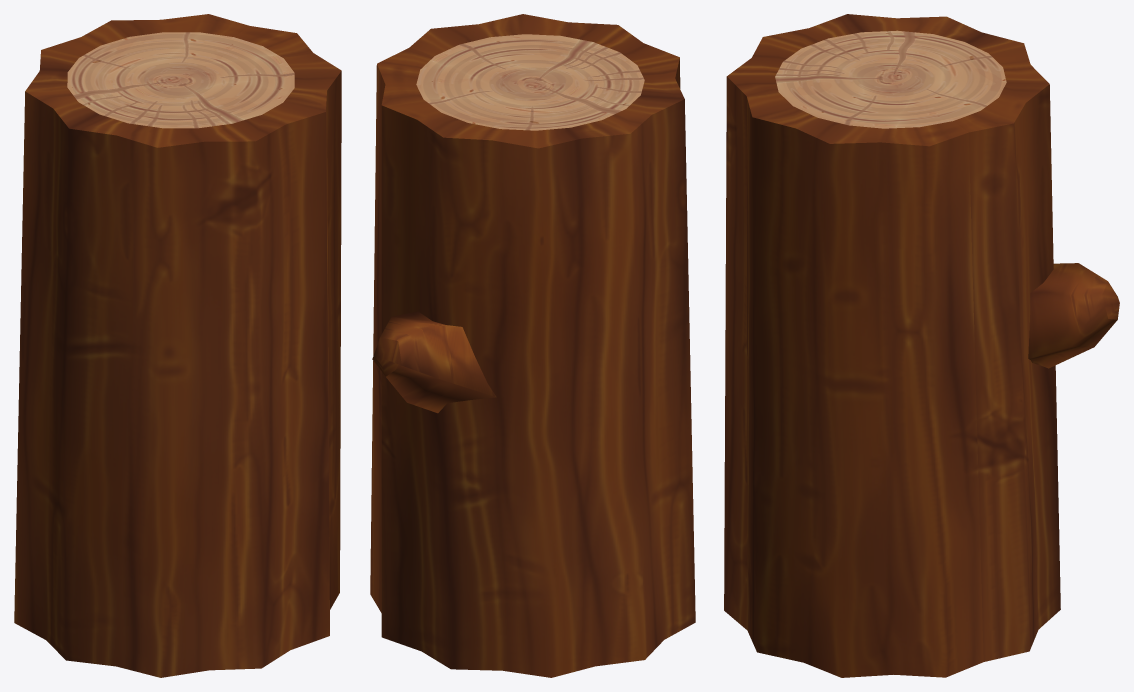
File: obj_harvests_trees_pine02_p03.fbx
3 views of the same model, side by side, from view 1: azimuth 30°, elevation 25°; view 2: azimuth 150°, elevation 25°; view 3: azimuth 270°, elevation 25° (orthographic).
Visible parts, largest first — view 1: chunk03; view 2: chunk03; view 3: chunk03.
Boxes of the visible parts, x1,y1,x2,y2 form: chunk03: (14,14,341,677); chunk03: (370,14,695,677); chunk03: (724,14,1119,677).
Bounding box in the file's own units: 4.39 × 8 × 5.39.
